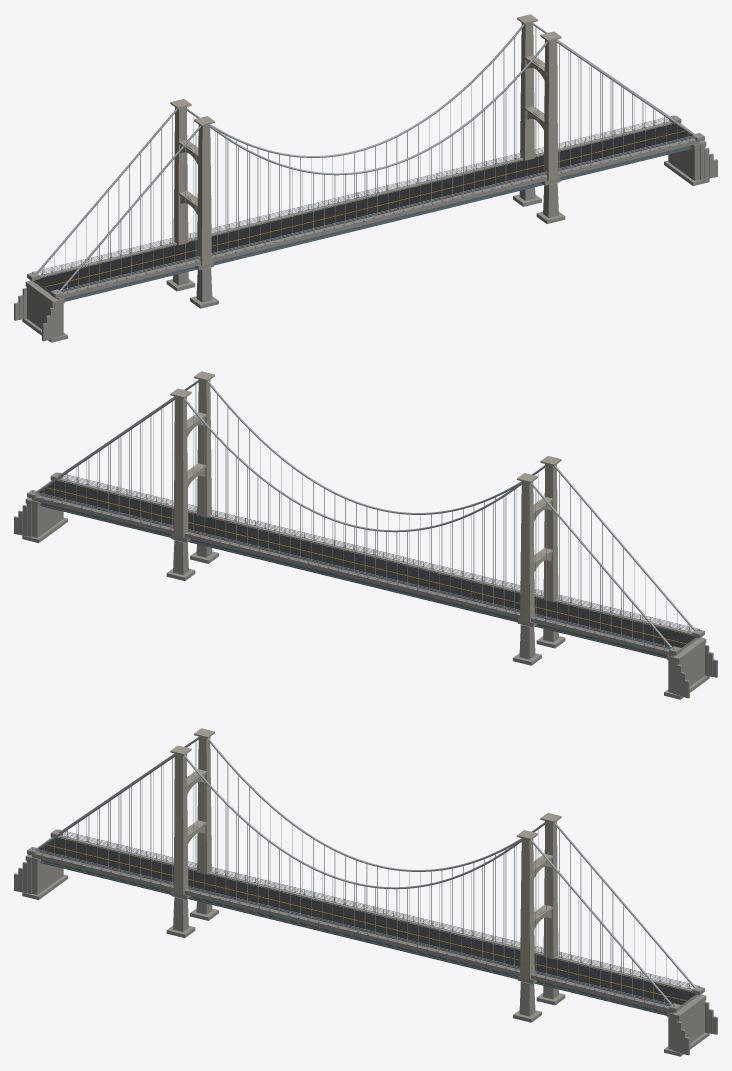
Rendered from suspension.obj.
The picture shows the model from 3 angles, top to bottom: view 1: azimuth 30°, elevation 25°; view 2: azimuth 150°, elevation 25°; view 3: azimuth 330°, elevation 25°; orthographic projection.
Visible parts, largest first — view 1: asphalt.bridge@asphalt, hanger@galvanizedSteel, tower@limestone, railing@galvanizedSteel, sidewalk@concrete, cable@galvanizedSteel, abutment@concrete, girder@paintedSteel, deck@concrete, pier@concrete, footing@concrete, marking@yellowPaint (+1 smaller); view 2: asphalt.bridge@asphalt, hanger@galvanizedSteel, tower@limestone, railing@galvanizedSteel, sidewalk@concrete, cable@galvanizedSteel, abutment@concrete, girder@paintedSteel, deck@concrete, pier@concrete, footing@concrete, marking@yellowPaint (+1 smaller); view 3: asphalt.bridge@asphalt, hanger@galvanizedSteel, tower@limestone, railing@galvanizedSteel, sidewalk@concrete, cable@galvanizedSteel, abutment@concrete, girder@paintedSteel, deck@concrete, pier@concrete, footing@concrete, marking@yellowPaint (+2 smaller).
Part boxes in pixels (bbox=[...]): asphalt.bridge@asphalt: bbox=[36, 123, 692, 291]; hanger@galvanizedSteel: bbox=[43, 27, 688, 289]; tower@limestone: bbox=[173, 22, 558, 265]; railing@galvanizedSteel: bbox=[32, 115, 699, 293]; sidewalk@concrete: bbox=[39, 121, 696, 295]; cable@galvanizedSteel: bbox=[35, 23, 696, 291]; abutment@concrete: bbox=[14, 123, 717, 341]; girder@paintedSteel: bbox=[64, 145, 691, 301]; deck@concrete: bbox=[33, 141, 699, 299]; pier@concrete: bbox=[173, 183, 558, 302]; footing@concrete: bbox=[22, 160, 709, 342]; marking@yellowPaint: bbox=[45, 130, 684, 286]; asphalt.bridge@asphalt: bbox=[39, 480, 695, 648]; hanger@galvanizedSteel: bbox=[43, 384, 688, 646]; tower@limestone: bbox=[173, 379, 558, 622]; railing@galvanizedSteel: bbox=[32, 472, 699, 650]; sidewalk@concrete: bbox=[35, 478, 692, 652]; cable@galvanizedSteel: bbox=[35, 380, 696, 648]; abutment@concrete: bbox=[14, 480, 717, 698]; girder@paintedSteel: bbox=[40, 502, 667, 658]; deck@concrete: bbox=[32, 498, 698, 656]; pier@concrete: bbox=[173, 540, 558, 659]; footing@concrete: bbox=[22, 517, 709, 699]; marking@yellowPaint: bbox=[47, 487, 686, 643]; asphalt.bridge@asphalt: bbox=[39, 837, 695, 1005]; hanger@galvanizedSteel: bbox=[43, 741, 688, 1003]; tower@limestone: bbox=[173, 736, 558, 979]; railing@galvanizedSteel: bbox=[32, 829, 699, 1007]; sidewalk@concrete: bbox=[35, 835, 692, 1009]; cable@galvanizedSteel: bbox=[35, 737, 696, 1005]; abutment@concrete: bbox=[14, 837, 717, 1055]; girder@paintedSteel: bbox=[40, 859, 667, 1015]; deck@concrete: bbox=[32, 855, 698, 1013]; pier@concrete: bbox=[173, 897, 558, 1016]; footing@concrete: bbox=[22, 874, 709, 1056]; marking@yellowPaint: bbox=[47, 844, 686, 1000].
Size of the model in its own units: 164 by 42.36 by 14.22.
